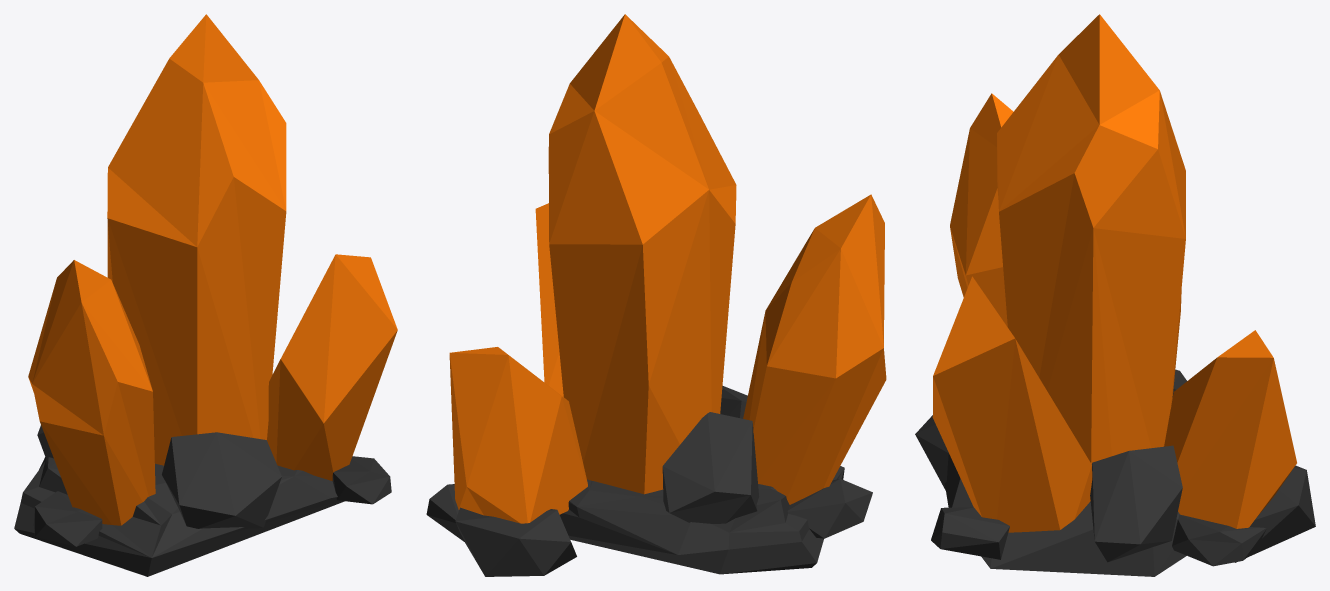
The model's file is Gem_00.FBX.
The picture shows the model from 3 angles, left to right: view 1: azimuth 30°, elevation 25°; view 2: azimuth 150°, elevation 25°; view 3: azimuth 270°, elevation 25°; orthographic projection. The views are drawn at different scales.
Visible parts, largest first — view 1: Gem_00; view 2: Gem_00; view 3: Gem_00.
Part boxes in pixels (left/top/right/bottom): Gem_00: left=14, top=14, right=397, bottom=576; Gem_00: left=426, top=14, right=886, bottom=576; Gem_00: left=915, top=14, right=1315, bottom=576.
Size of the model in its own units: 49.8 by 67.11 by 47.72.
